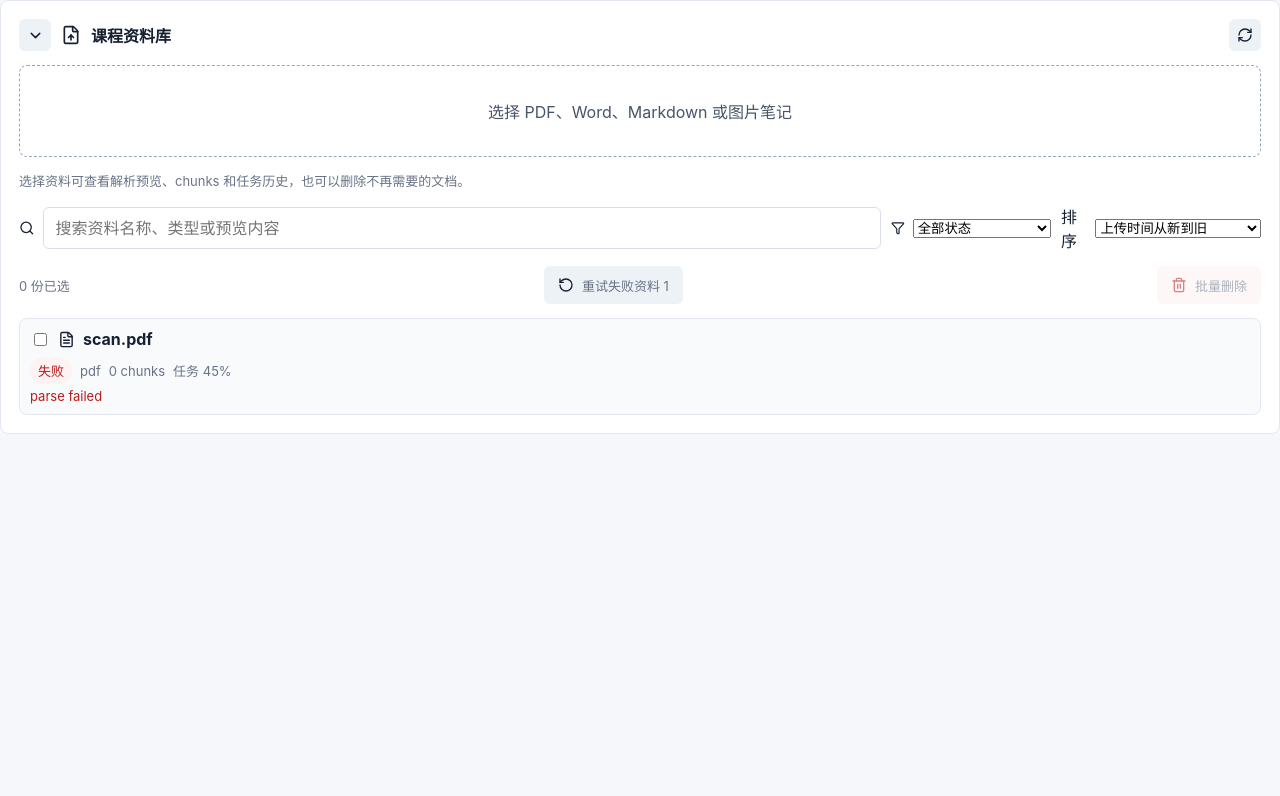
Test: UploadPanel › shows troubleshooting guidance for failed parsing jobs in readable Chinese
Click the list item with class "document-row". click: (640, 366)
box: [19, 318, 1261, 415]
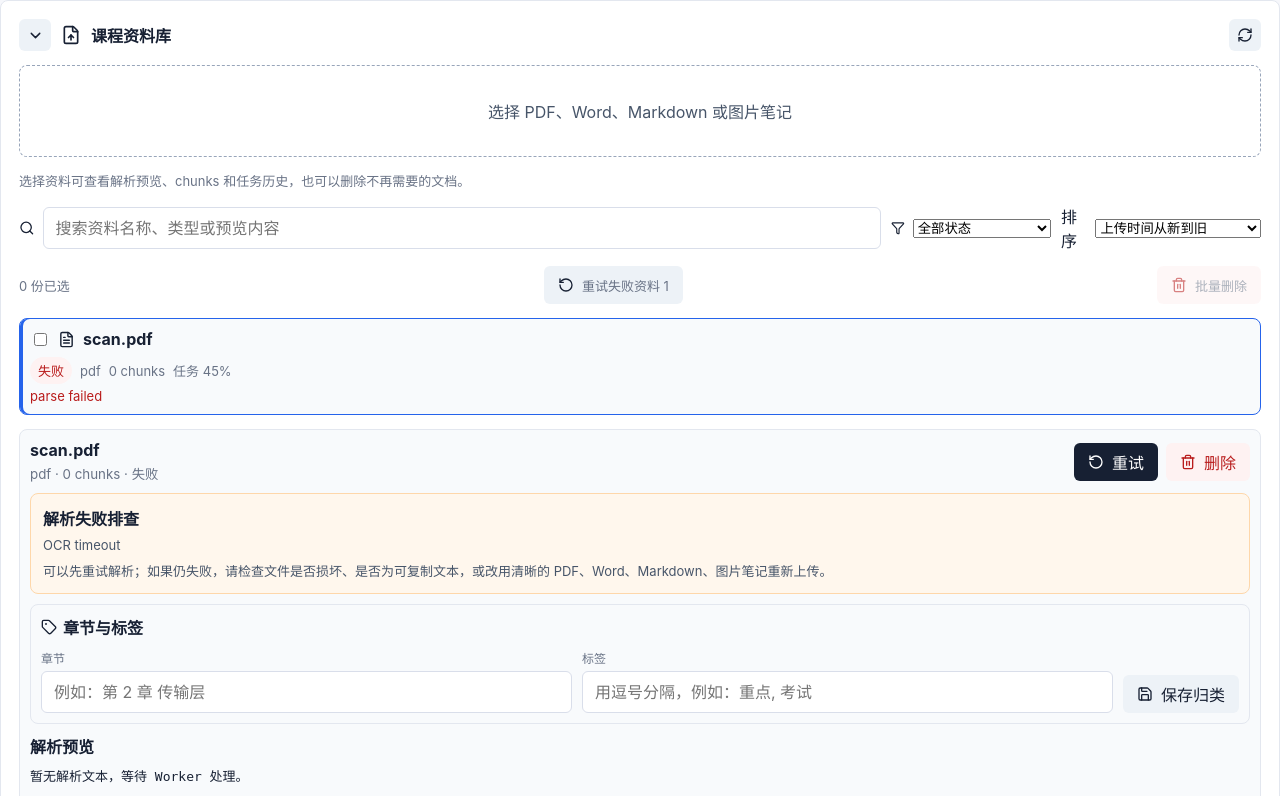
Expected: the text "解析失败排查" is shown, [43, 509, 139, 529]
Expected: the text "可以先重试解析" is shown, [43, 562, 832, 578]
Expected: the text "OCR timeout" is shown, [43, 537, 121, 553]
